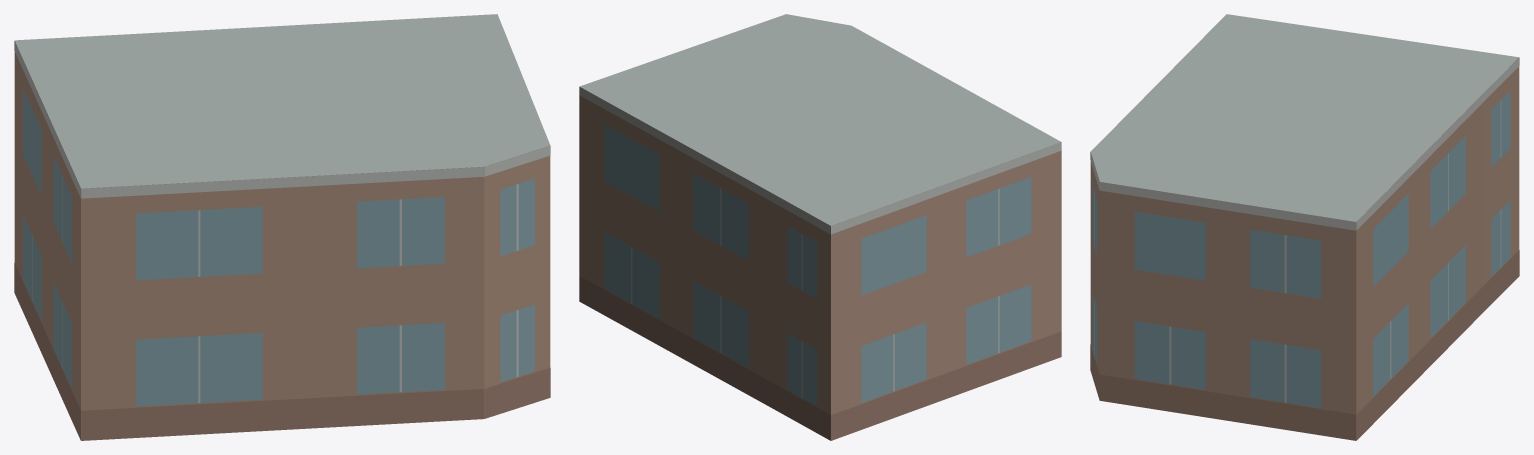
The model's file is survey-upis-32810627.glb.
The picture shows the model from 3 angles, left to right: view 1: azimuth 30°, elevation 25°; view 2: azimuth 150°, elevation 25°; view 3: azimuth 270°, elevation 25°; orthographic projection. The views are drawn at different scales.
Parts seen in each view (by area): view 1: survey-upis-32810627.tmp; view 2: survey-upis-32810627.tmp; view 3: survey-upis-32810627.tmp.
Part boxes in pixels (bbox=[...]): survey-upis-32810627.tmp: bbox=[14, 14, 550, 440]; survey-upis-32810627.tmp: bbox=[579, 14, 1061, 440]; survey-upis-32810627.tmp: bbox=[1090, 14, 1519, 440].
Bounding box in the file's own units: 12.44 × 6.1 × 10.84.
